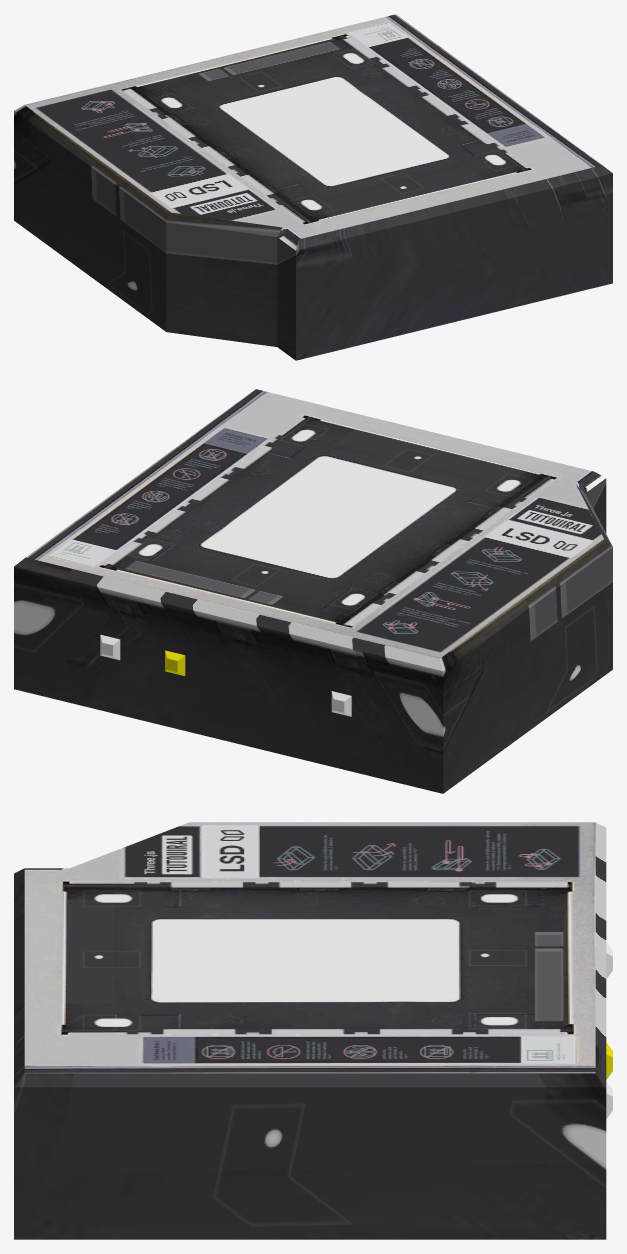
3 renders of one model, top to bottom at view 1: azimuth 30°, elevation 25°; view 2: azimuth 150°, elevation 25°; view 3: azimuth 270°, elevation 25°, orthographic. The views are drawn at different scales.
Visible parts, largest first — view 1: pCube2; view 2: pCube2; view 3: pCube2.
Boxes of the visible parts, x1,y1,x2,y2 form: pCube2: [14, 14, 612, 360]; pCube2: [14, 389, 612, 793]; pCube2: [14, 822, 606, 1239].
Bounding box in the file's own units: 20.13 × 5.84 × 19.62.
Materials: 4 (1 with a texture image).
